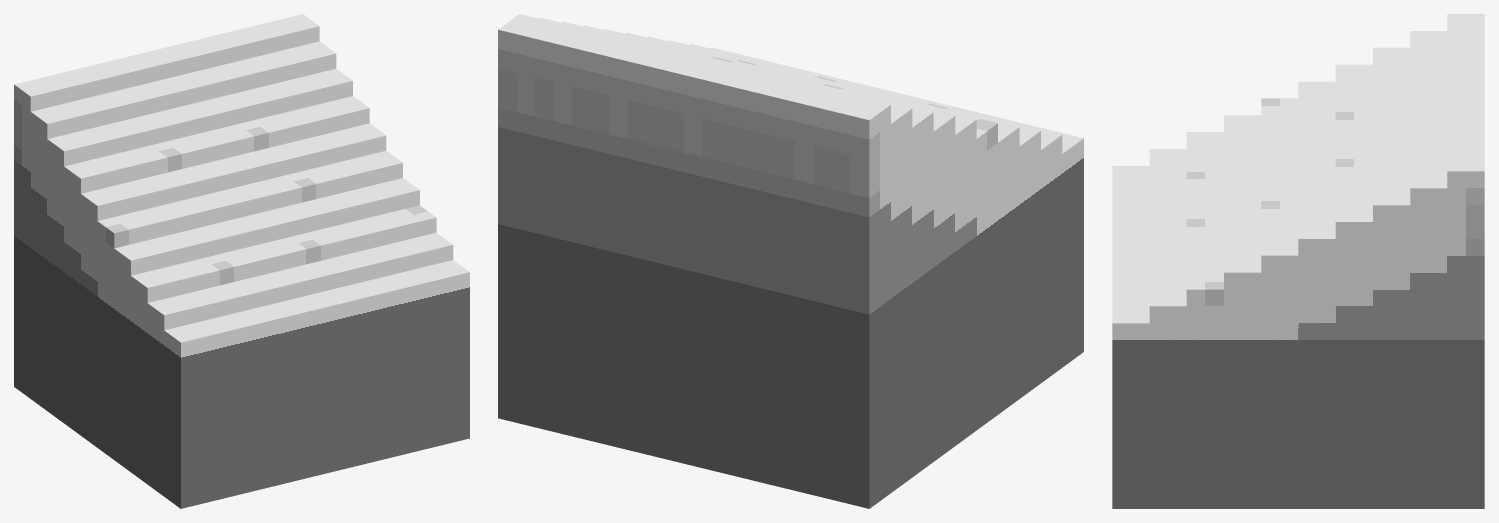
Rendered from half_ramp_full_middle.glb.
3 views of the same model, side by side, from view 1: azimuth 30°, elevation 25°; view 2: azimuth 150°, elevation 25°; view 3: azimuth 270°, elevation 25° (orthographic). The views are drawn at different scales.
Parts seen in each view (by area): view 1: half_ramp_full_middle; view 2: half_ramp_full_middle; view 3: half_ramp_full_middle.
Boxes of the visible parts, box(x1,y1,x2,y2) form: half_ramp_full_middle: box(14, 14, 469, 508); half_ramp_full_middle: box(498, 14, 1083, 508); half_ramp_full_middle: box(1112, 14, 1484, 508).
Size of the model in its own units: 2 by 2 by 2.
1 material, 1 textured.
